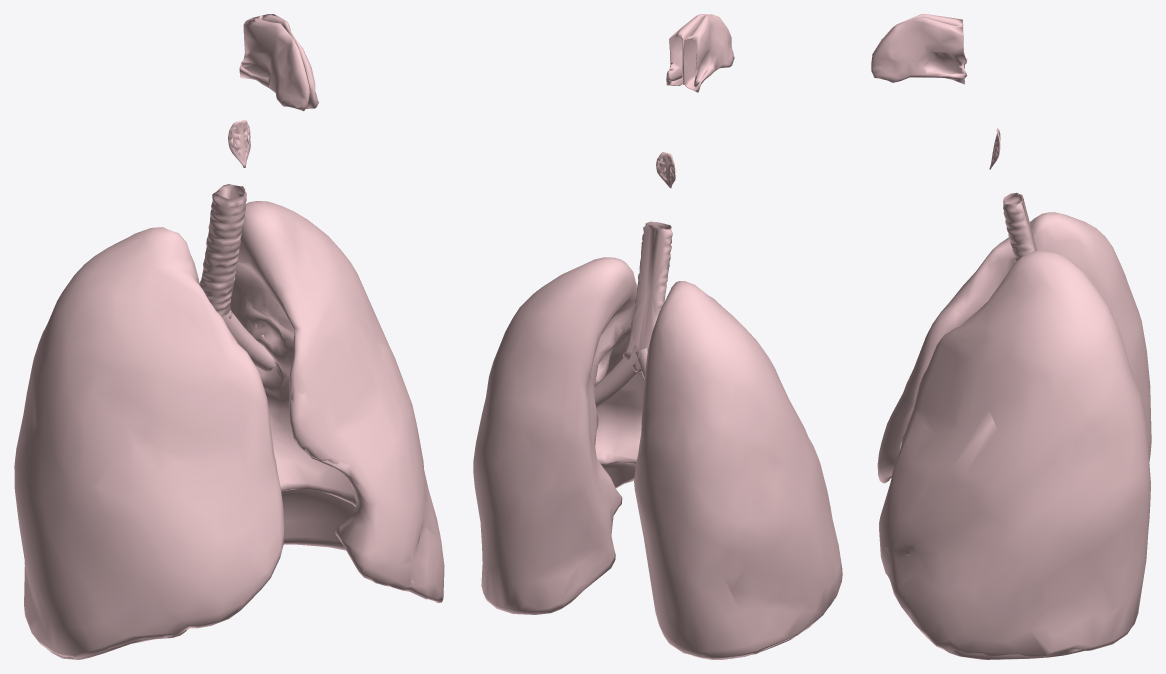
File: respiratory.glb
The picture shows the model from 3 angles, left to right: view 1: azimuth 30°, elevation 25°; view 2: azimuth 150°, elevation 25°; view 3: azimuth 270°, elevation 25°; orthographic projection. The views are drawn at different scales.
Visible parts, largest first — view 1: RES.pleura.C, RES.mucosa_of_nasal_cavity.C, RES.trachea.C, RES.left_main_bronchus.C, RES.epiglottis.C; view 2: RES.pleura.C, RES.mucosa_of_nasal_cavity.C, RES.trachea.C, RES.left_main_bronchus.C; view 3: RES.pleura.C, RES.mucosa_of_nasal_cavity.C, RES.trachea.C, RES.inferior_lobe_of_left_lung.C.
Part boxes in pixels (<box>): RES.pleura.C: <box>14,201,444,658</box>; RES.mucosa_of_nasal_cavity.C: <box>239,14,318,111</box>; RES.trachea.C: <box>199,184,246,318</box>; RES.left_main_bronchus.C: <box>222,310,274,371</box>; RES.epiglottis.C: <box>228,120,250,167</box>; RES.pleura.C: <box>473,257,842,659</box>; RES.mucosa_of_nasal_cavity.C: <box>666,14,734,92</box>; RES.trachea.C: <box>622,221,672,372</box>; RES.left_main_bronchus.C: <box>594,345,642,407</box>; RES.pleura.C: <box>877,212,1151,657</box>; RES.mucosa_of_nasal_cavity.C: <box>871,14,967,84</box>; RES.trachea.C: <box>1003,192,1036,261</box>; RES.inferior_lobe_of_left_lung.C: <box>889,573,1084,659</box>.
Bounding box in the file's own units: 0.2633 × 0.4307 × 0.1926.
